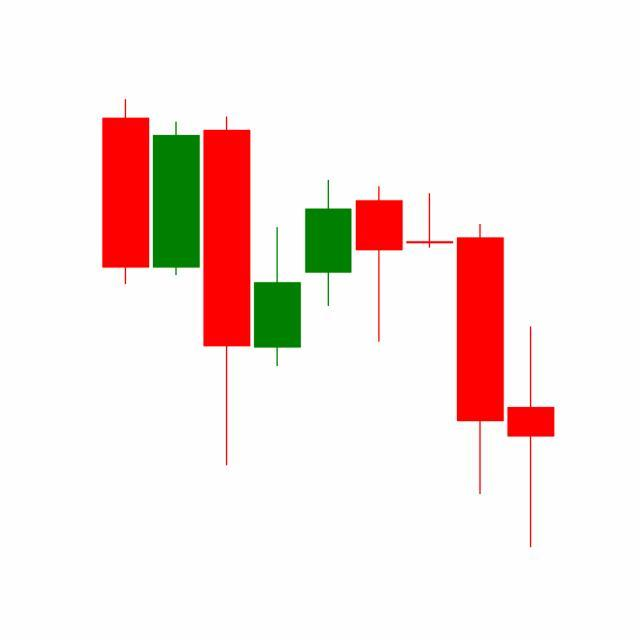Hikkake Pattern: (252, 177, 506, 499)
